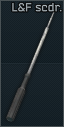Flat screwdriver Long: (0, 0, 64, 127)
